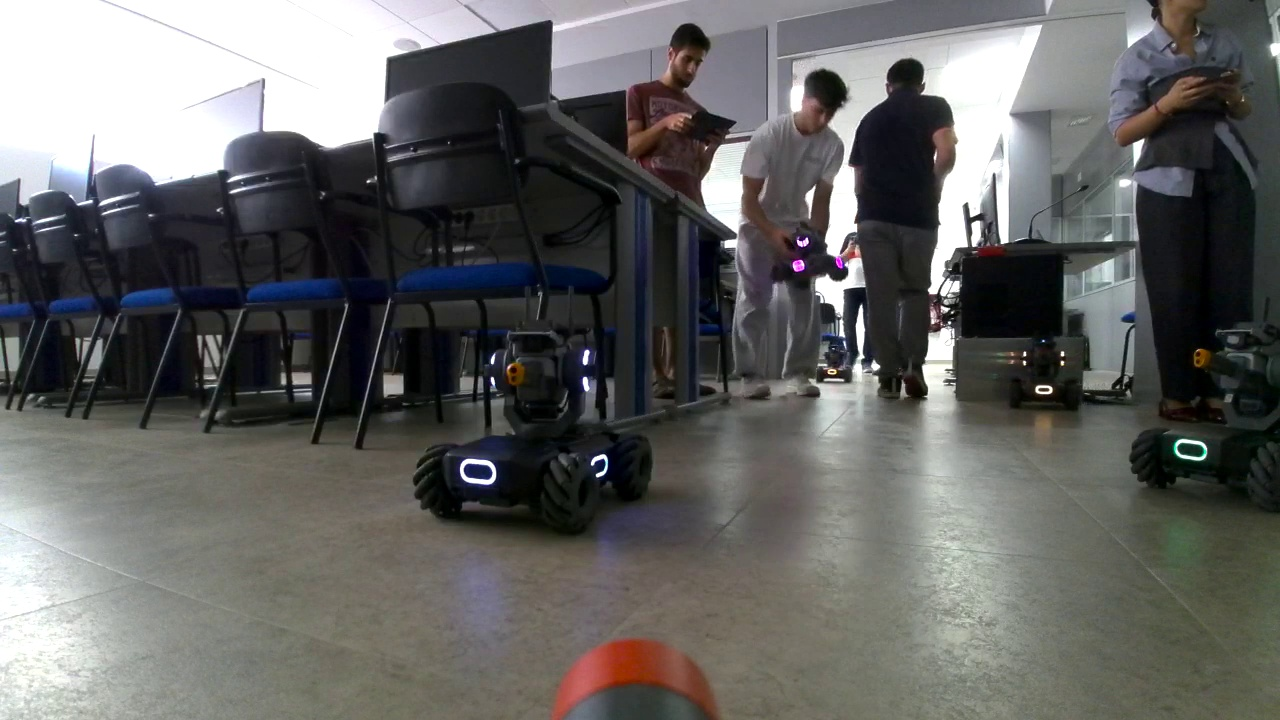robot: (412, 283, 655, 536), (1128, 296, 1280, 507), (769, 218, 850, 291), (1010, 332, 1080, 408), (815, 340, 853, 385)
